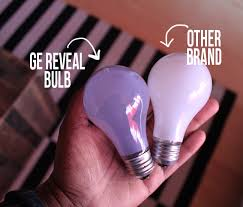bulb: (143, 45, 222, 159), (79, 55, 154, 167)
